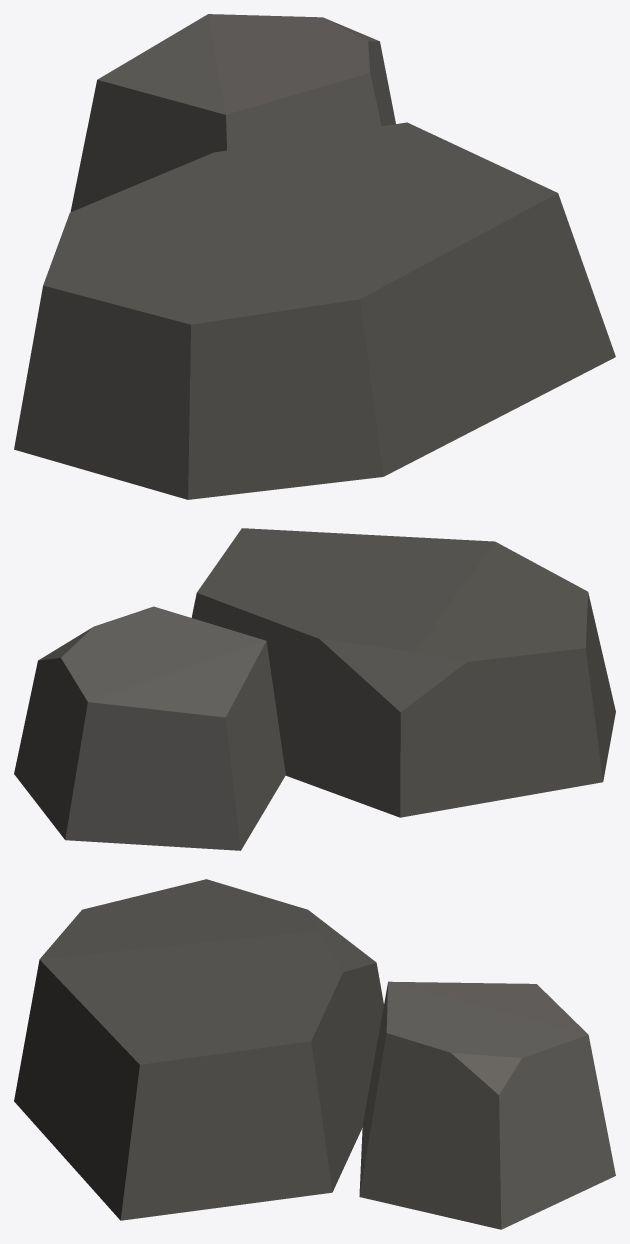
Rendered from prop_path_rocks2.gltf.
The picture shows the model from 3 angles, top to bottom: view 1: azimuth 30°, elevation 25°; view 2: azimuth 150°, elevation 25°; view 3: azimuth 270°, elevation 25°; orthographic projection. The views are drawn at different scales.
Visible parts, largest first — view 1: prop_path_rocks2; view 2: prop_path_rocks2; view 3: prop_path_rocks2.
Part boxes in pixels (x1,y1,x2,y2): prop_path_rocks2: (14, 14, 615, 499); prop_path_rocks2: (14, 528, 615, 850); prop_path_rocks2: (14, 879, 615, 1229).
Size of the model in its own units: 0.4802 by 0.1506 by 0.5341.
1 material, 1 textured.
